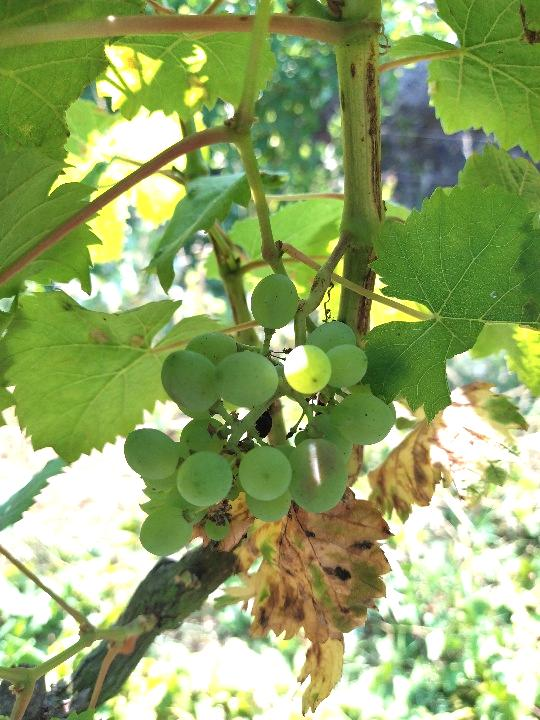grape: (120, 271, 397, 559)
